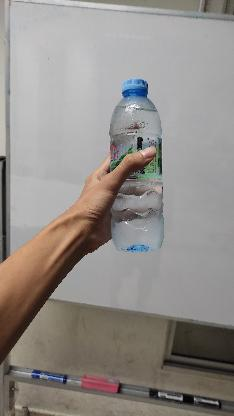Plastic Bottle: (106, 74, 166, 252)
